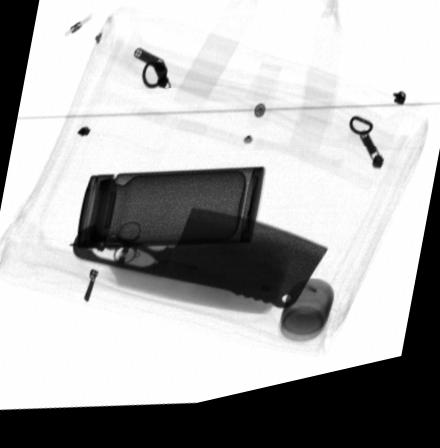Knife: (71, 215, 328, 321)
Scissors: (68, 224, 142, 272)
